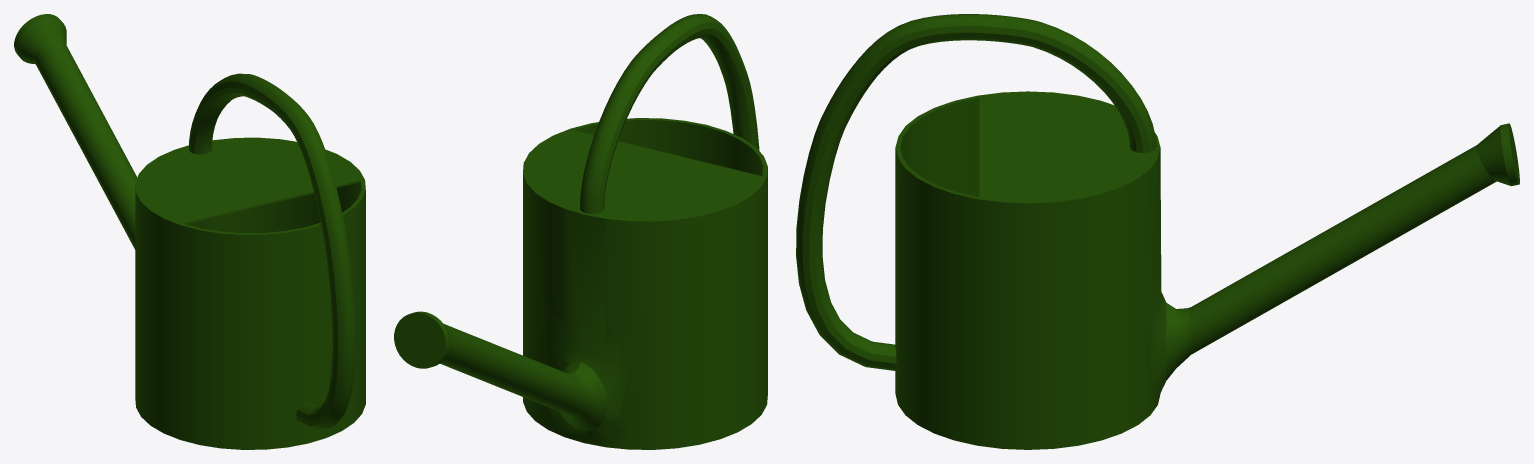
The model's file is WateringCan2.fbx.
The picture shows the model from 3 angles, left to right: view 1: azimuth 30°, elevation 25°; view 2: azimuth 150°, elevation 25°; view 3: azimuth 270°, elevation 25°; orthographic projection. The views are drawn at different scales.
Visible parts, largest first — view 1: Cylinder.001; view 2: Cylinder.001; view 3: Cylinder.001.
Boxes of the visible parts, bbox=[...] form: Cylinder.001: bbox=[14, 14, 365, 449]; Cylinder.001: bbox=[394, 14, 767, 449]; Cylinder.001: bbox=[796, 14, 1519, 449].
Bounding box in the file's own units: 38.49 × 60.71 × 105.
